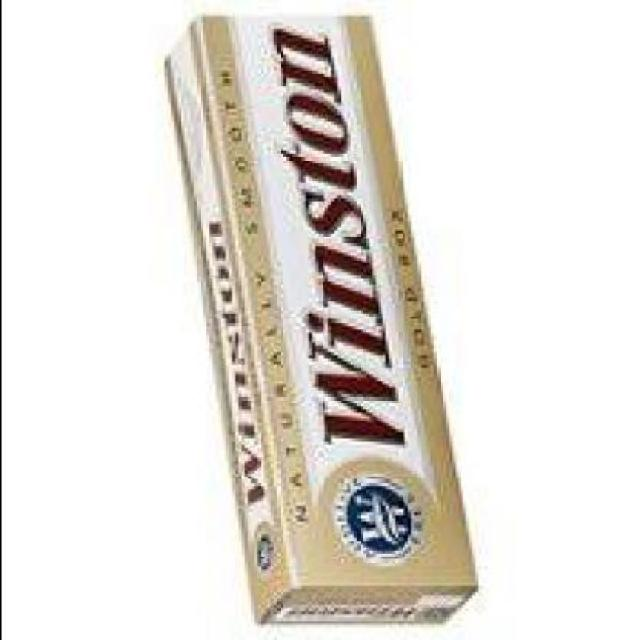CARDBOARD: (160, 22, 474, 627)
